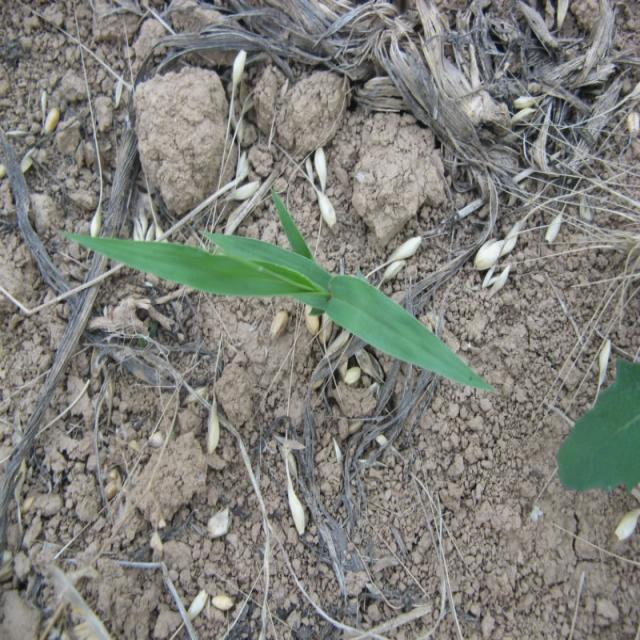bg: (58, 186, 502, 394)
